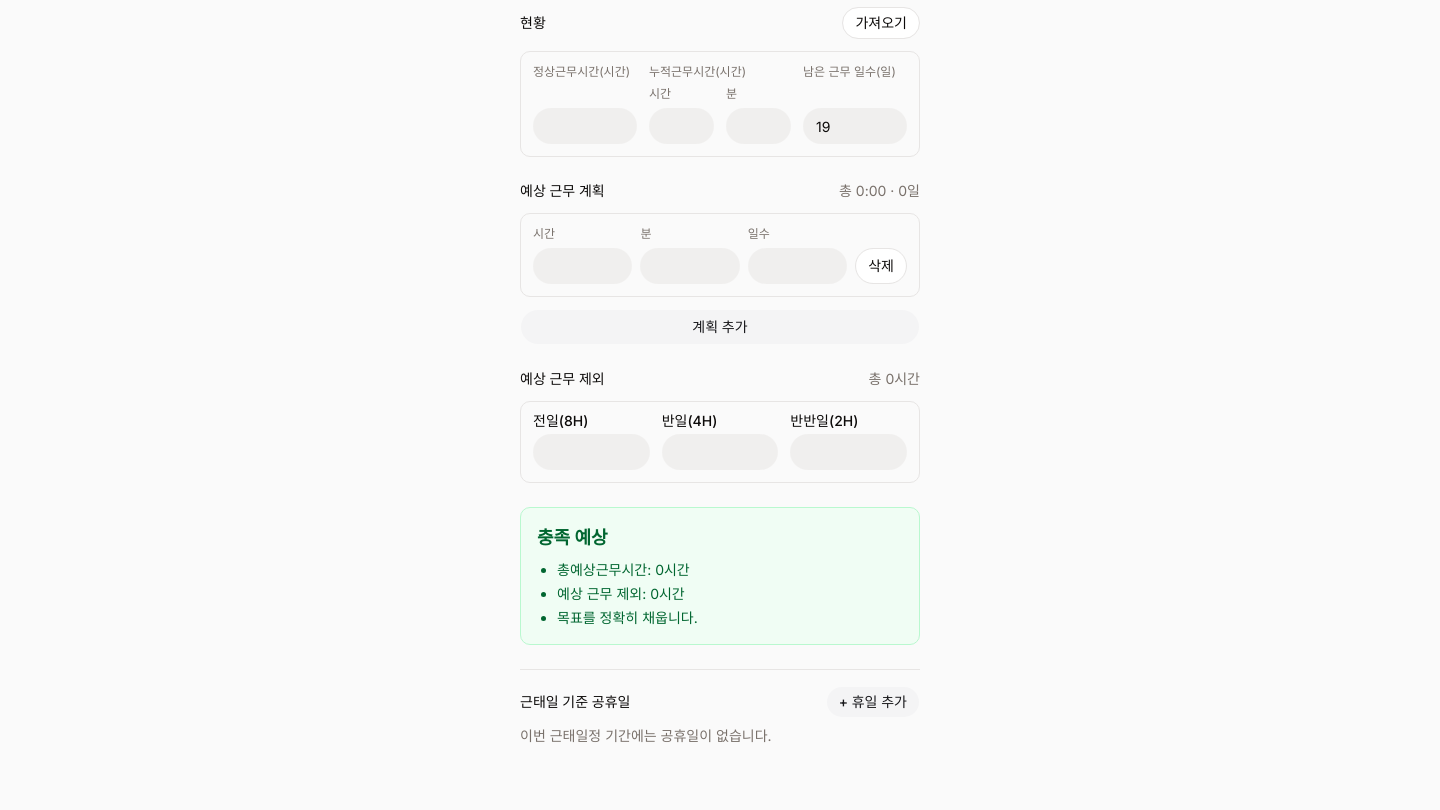
Scenario: 휴일 추가 버튼을 누르면 팝업이 열린다
The width and height of the screenshot is (1440, 810).
(page scrolled)
Click the button "+ 휴일 추가" at (873,702), box [826,686,920,718]
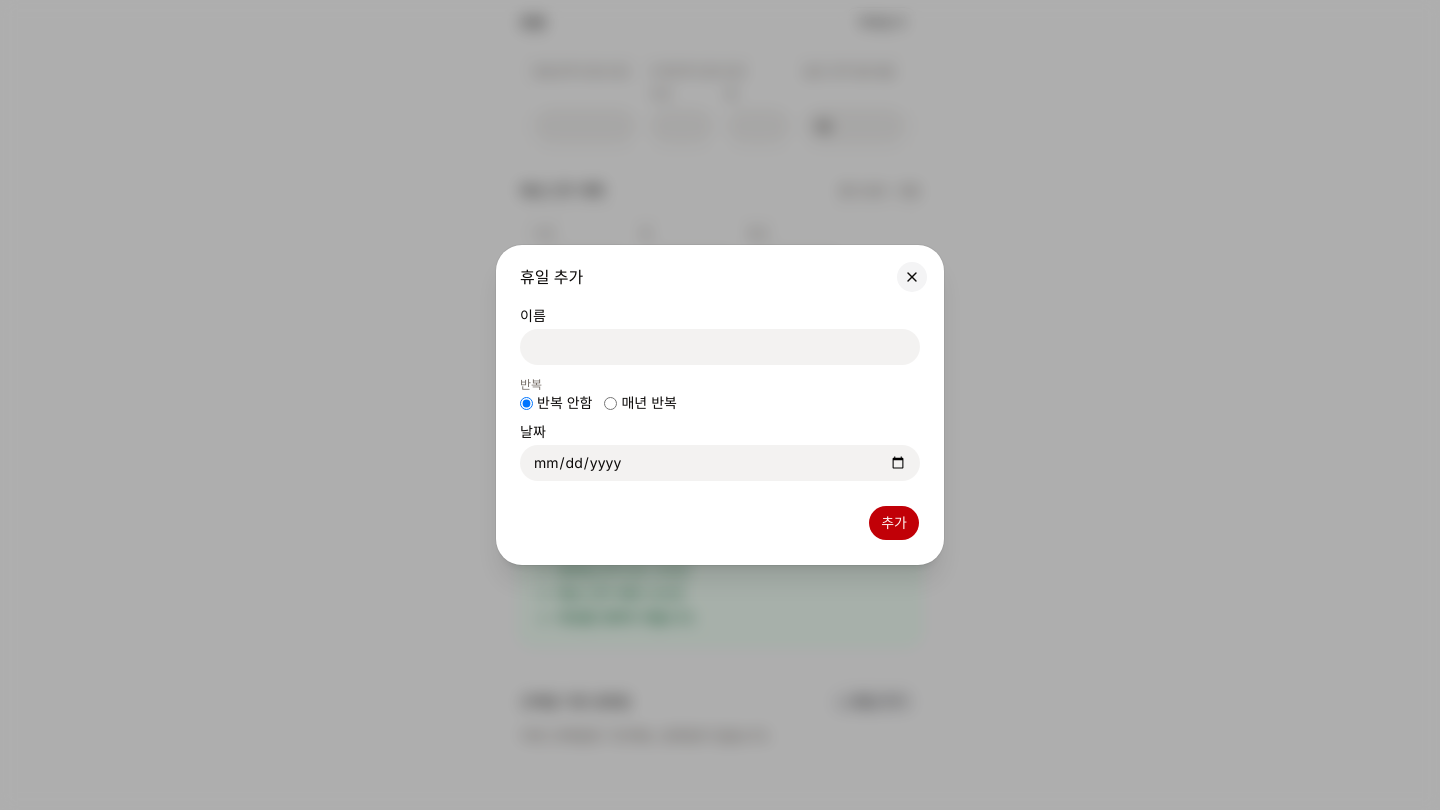
Now the heading "휴일 추가" is shown, box [520,267,583,287]
